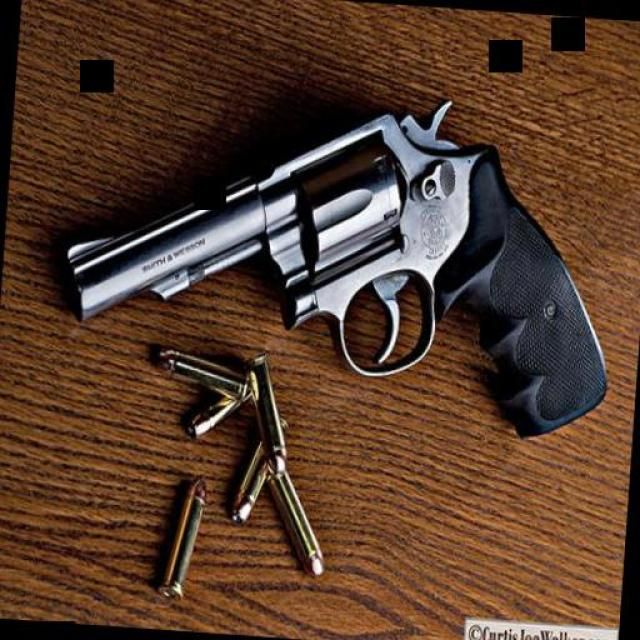gun: (50, 59, 631, 474)
